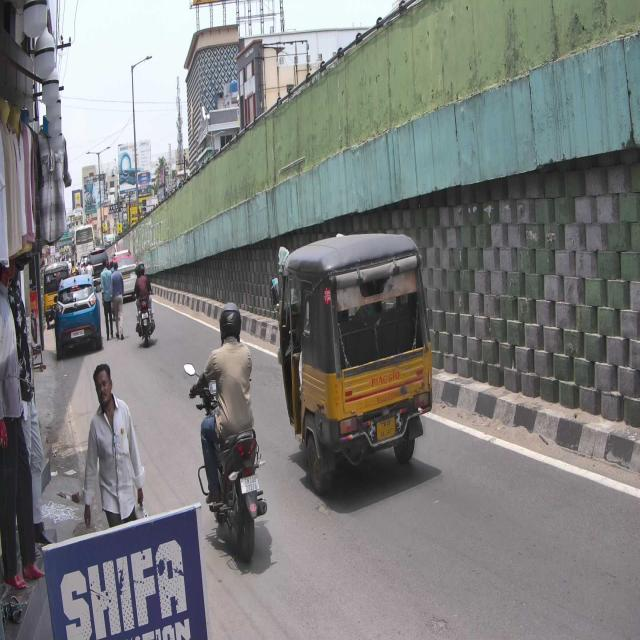single_rider: (188, 296, 272, 564)
